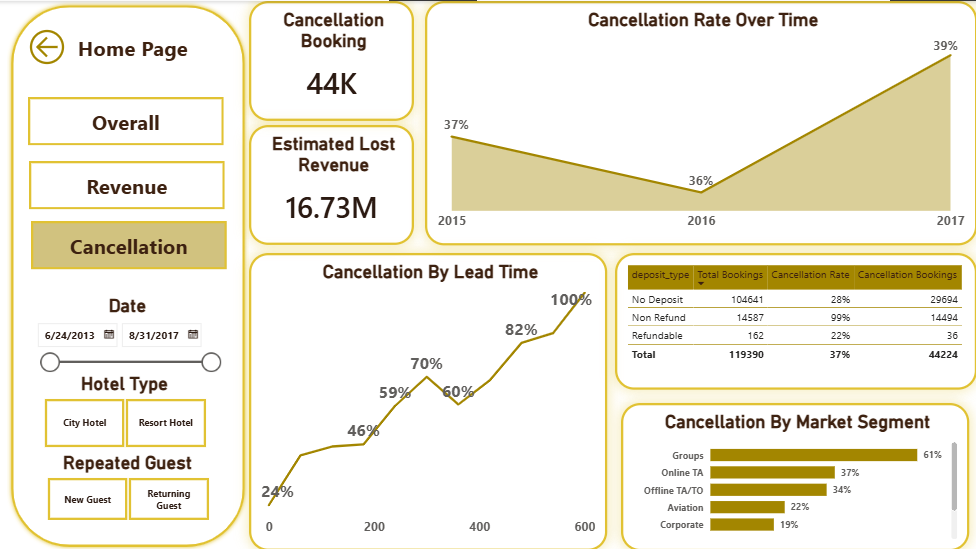

What the dashboard file says about the page in this screenshot:
{"tool":"powerbi","page":{"name":"Cancellation","canvas":[1280,720],"ordinal":3},"visuals":[{"type":"group","id":"g1","title":"Group 1","box":[10.1,0,316.8,720],"z":0},{"type":"shape","box":[10.1,0,316.8,720],"z":0,"group":"g1"},{"type":"cardVisual","title":"Estimated Lost Revenue","fields":{"Data":["measures (2).Estimated Lost Revenue"]},"box":[326.9,162.7,216,157],"z":1000},{"type":"cardVisual","title":"Cancellation Booking","fields":{"Data":["measures (2).Cancellation Bookings"]},"box":[326.9,0,216,157],"z":2000},{"type":"areaChart","title":"Cancellation Rate Over Time","fields":{"Category":["dates.Date Hierarchy.Date","dates.Date Hierarchy.year","dates.Date Hierarchy.quarter","dates.Date Hierarchy.month"],"Y":["measures (2).Cancellation Rate"]},"box":[557.3,0,722.9,319.7],"z":3000},{"type":"lineChart","title":"Cancellation By Lead Time","fields":{"Y":["measures (2).Cancellation Rate"],"Category":["hotel_bookings.lead_time (bins)"]},"box":[326.9,329.8,469.4,390.2],"z":4000},{"type":"tableEx","title":"Revenue By deposit Type","fields":{"Values":["hotel_bookings.deposit_type","measures (2).Total Bookings","measures (2).Cancellation Rate","measures (2).Cancellation Bookings"]},"box":[806.4,329.8,473.8,178.6],"z":5000},{"type":"barChart","title":"Cancellation By Market Segment","fields":{"Category":["hotel_bookings.market_segment"],"Y":["measures (2).Cancellation Rate"]},"box":[813.6,525.6,456.5,194.4],"z":6000},{"type":"actionButton","title":"Home Page","box":[33.1,31.7,282.2,57.6],"z":7000,"group":"g1"},{"type":"slicer","title":"Hotel Type","fields":{"Values":["hotel_bookings.hotel"]},"box":[33.1,486.7,260.6,103.7],"z":8000,"group":"g1"},{"type":"slicer","title":"Repeated Guest","fields":{"Values":["hotel_bookings.repeat_guest"]},"box":[37.5,590.4,260.6,96.5],"z":9000,"group":"g1"},{"type":"slicer","title":"Date ","fields":{"Values":["dates.Date"]},"box":[37.5,384.5,260.6,102.2],"z":10000,"group":"g1"},{"type":"actionButton","title":"Overall","box":[37.5,125.3,256.3,63.4],"z":11000,"group":"g1"},{"type":"actionButton","title":"Revenue","box":[38.9,208.8,256.3,63.4],"z":11500,"group":"g1"},{"type":"actionButton","title":"Cancellation","box":[41.8,288,256.3,63.4],"z":12000,"group":"g1"}]}

Visuals, with their boxes in screenshot pixels (x1, y1, x2, y2), scaled from the page's 1280x720 canvas onto the 976x549 screenshot:
"Group 1" group: [left=8, top=0, right=249, bottom=548]
shape: [left=8, top=0, right=249, bottom=548]
"Estimated Lost Revenue" cardVisual: [left=249, top=124, right=414, bottom=244]
"Cancellation Booking" cardVisual: [left=249, top=0, right=414, bottom=120]
"Cancellation Rate Over Time" areaChart: [left=425, top=0, right=975, bottom=244]
"Cancellation By Lead Time" lineChart: [left=249, top=251, right=607, bottom=548]
"Revenue By deposit Type" tableEx: [left=615, top=251, right=975, bottom=388]
"Cancellation By Market Segment" barChart: [left=620, top=401, right=968, bottom=548]
"Home Page" actionButton: [left=25, top=24, right=240, bottom=68]
"Hotel Type" slicer: [left=25, top=371, right=224, bottom=450]
"Repeated Guest" slicer: [left=29, top=450, right=227, bottom=524]
"Date " slicer: [left=29, top=293, right=227, bottom=371]
"Overall" actionButton: [left=29, top=96, right=224, bottom=144]
"Revenue" actionButton: [left=30, top=159, right=225, bottom=208]
"Cancellation" actionButton: [left=32, top=220, right=227, bottom=268]
